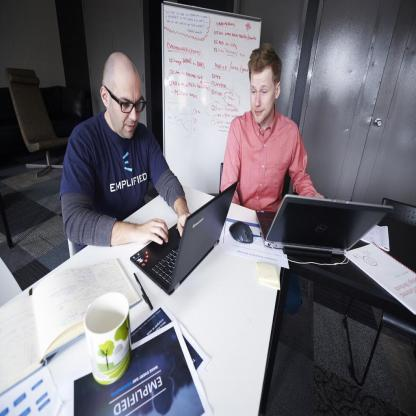board: (128, 185, 243, 296), (256, 194, 394, 256)
